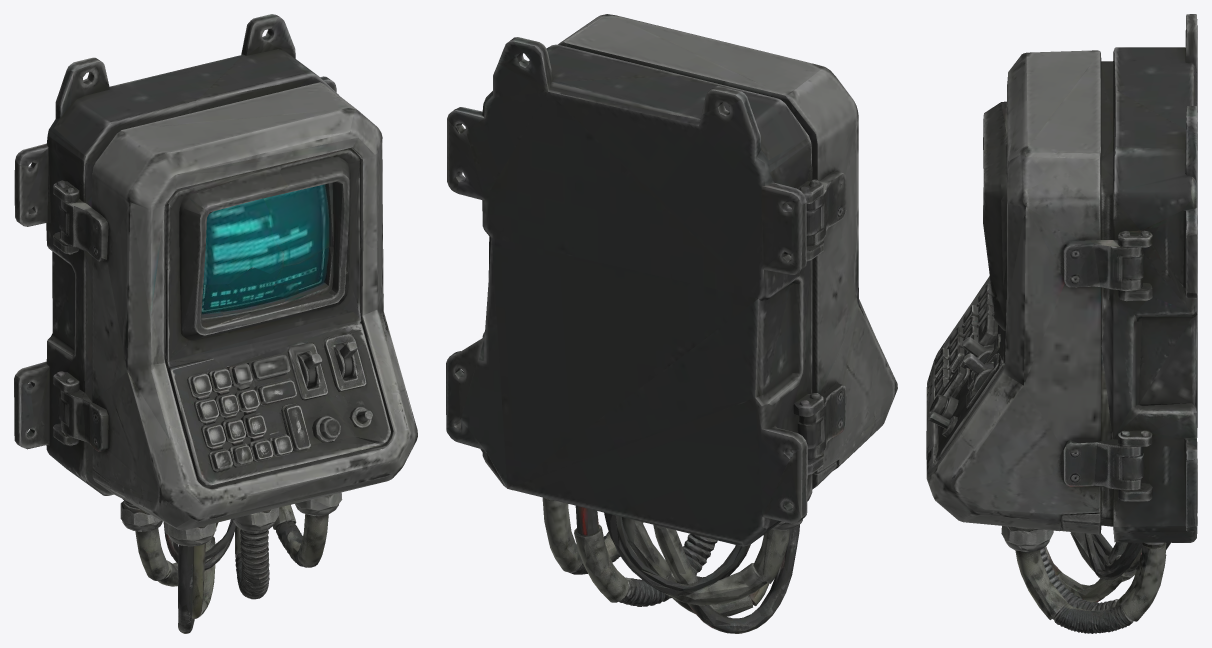
The model's file is terminal-meshy.glb.
3 renders of one model, left to right at view 1: azimuth 30°, elevation 25°; view 2: azimuth 150°, elevation 25°; view 3: azimuth 270°, elevation 25°, orthographic. The views are drawn at different scales.
Visible parts, largest first — view 1: Mesh_0; view 2: Mesh_0; view 3: Mesh_0.
Boxes of the visible parts, left/top/right/bottom form: Mesh_0: left=14, top=14, right=417, bottom=633; Mesh_0: left=446, top=14, right=897, bottom=633; Mesh_0: left=926, top=14, right=1197, bottom=633.
Bounding box in the file's own units: 1.18 × 1.9 × 0.8308.
1 material, 1 textured.
